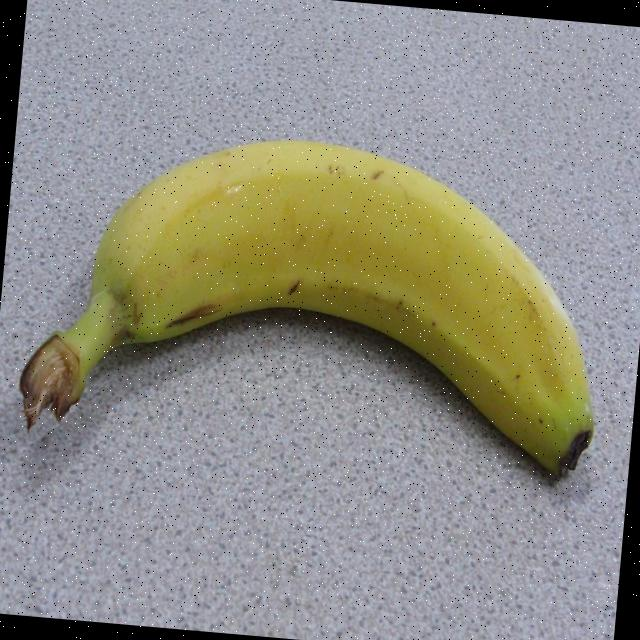banana: (17, 140, 595, 480)
